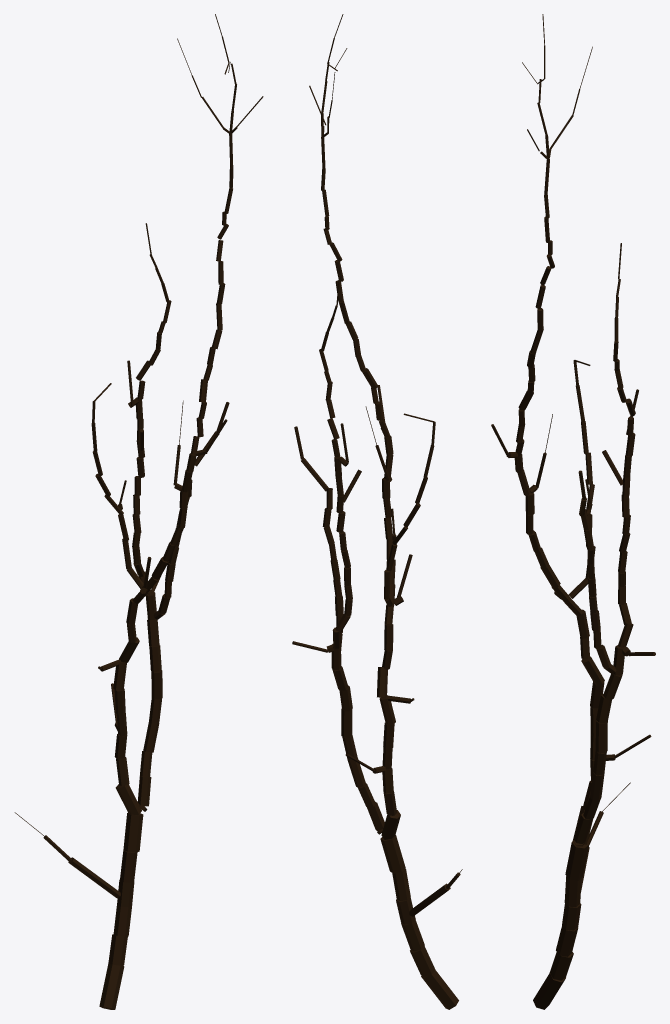
The model's file is 2022_tree_542_no_leaf.obj.
The picture shows the model from 3 angles, left to right: view 1: azimuth 30°, elevation 25°; view 2: azimuth 150°, elevation 25°; view 3: azimuth 270°, elevation 25°; orthographic projection. The views are drawn at different scales.
Visible parts, largest first — view 1: TrunkAndBranches; view 2: TrunkAndBranches; view 3: TrunkAndBranches.
Boxes of the visible parts, box(x1,y1,x2,y2) form: TrunkAndBranches: box(14, 14, 263, 1009); TrunkAndBranches: box(292, 14, 462, 1009); TrunkAndBranches: box(491, 14, 655, 1009).
Size of the model in its own units: 2.06 by 9.5 by 1.35.
